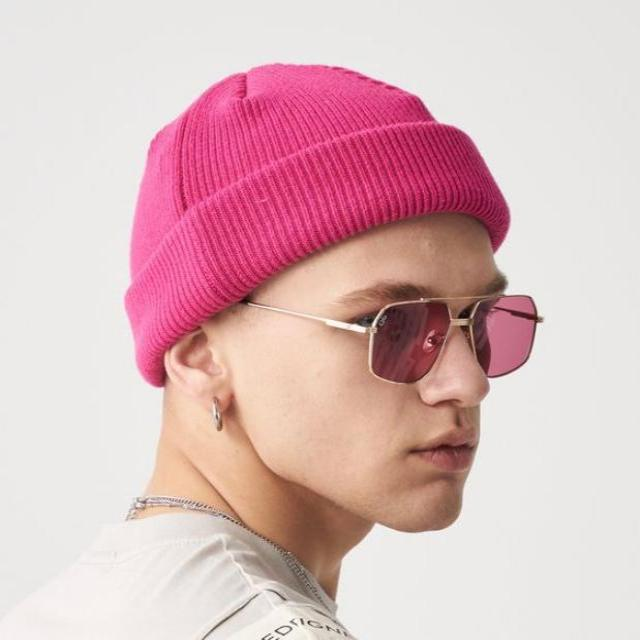glasses: (282, 292, 543, 388)
